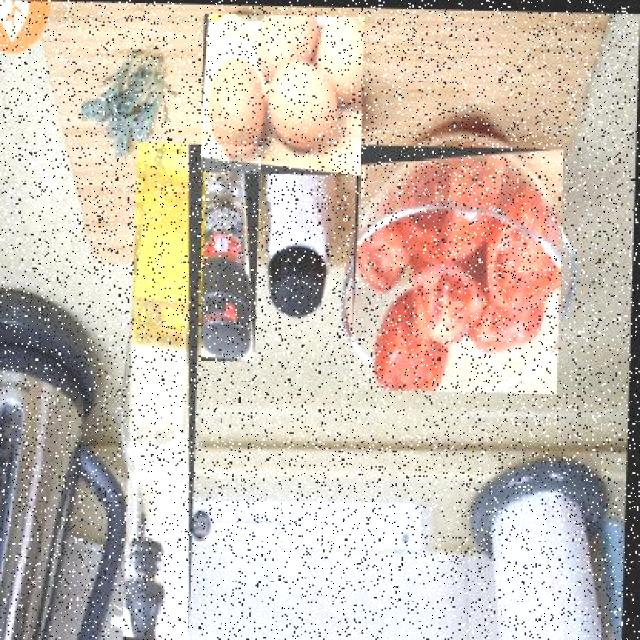Egg: (199, 11, 364, 174)
Olive Oil: (125, 140, 206, 638)
Tomato: (350, 142, 564, 392)
